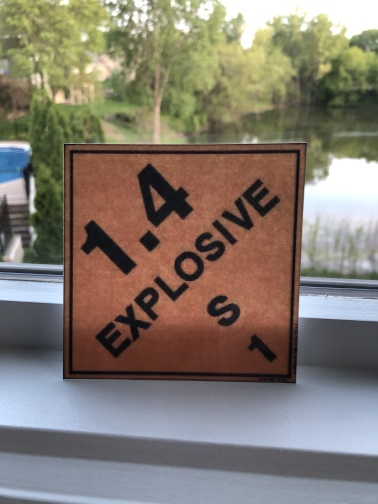Explosive: (61, 144, 298, 380)
